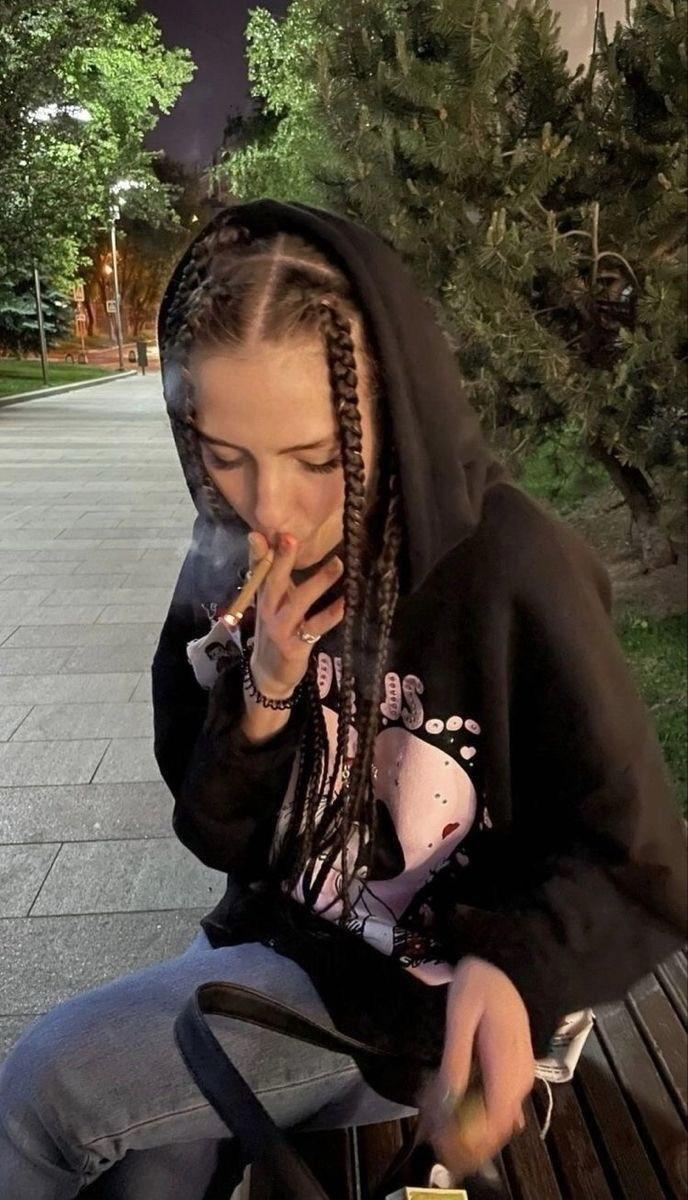cigarette: (223, 546, 277, 626)
